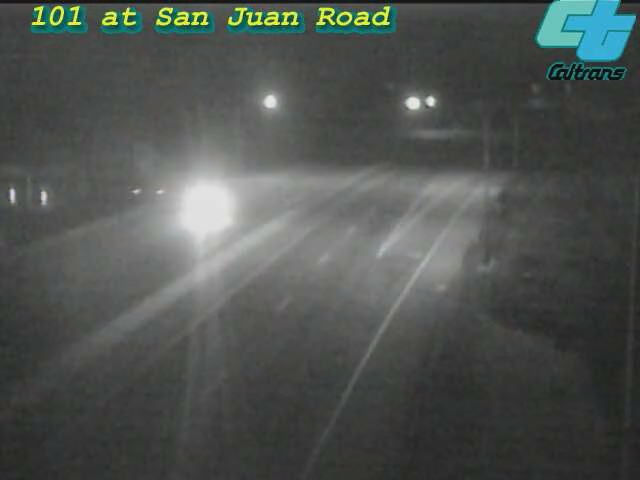vehicle: (160, 170, 240, 250)
